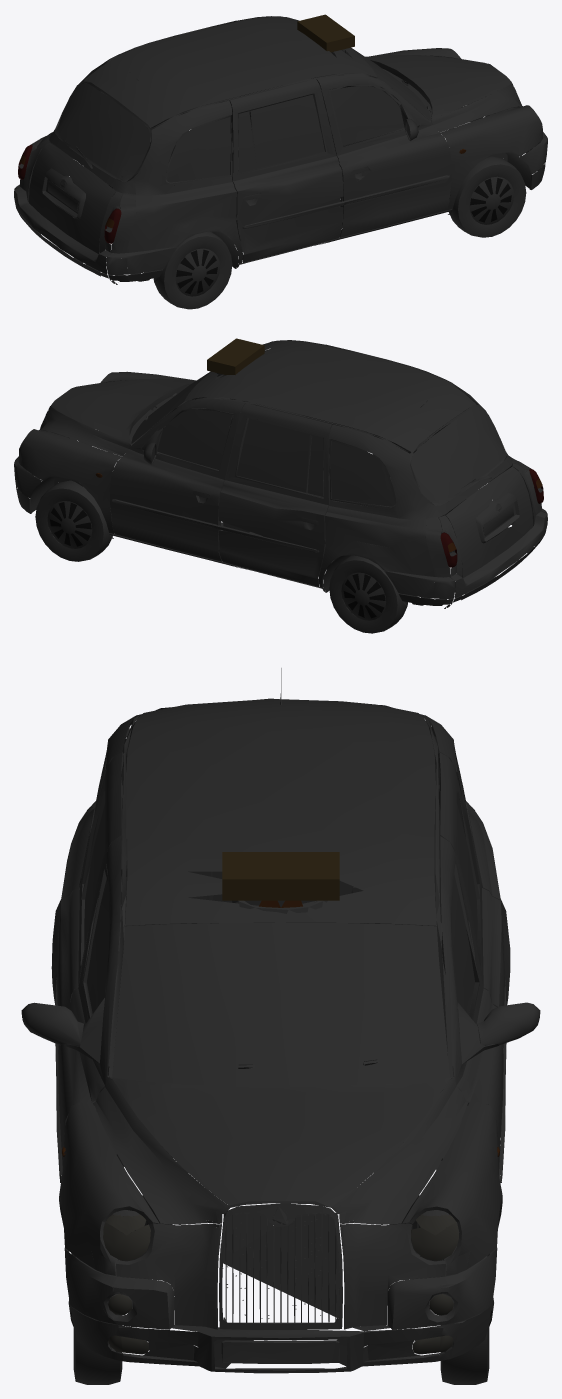
Rendered from london-cab.glb.
3 renders of one model, top to bottom at view 1: azimuth 30°, elevation 25°; view 2: azimuth 150°, elevation 25°; view 3: azimuth 270°, elevation 25°, orthographic. The views are drawn at different scales.
Visible parts, largest first — view 1: CabBody, CabGlass, CabRubber, FR, RR, CabLights, CabInterior; view 2: CabBody, CabGlass, CabRubber, FL, RL, CabLights, CabInterior; view 3: CabBody, CabGlass, CabRubber, CabLights, CabTrim, CabInterior, FL, FR.
Part boxes in pixels (x1=…): CabBody: x1=14, y1=16, x2=547, y2=284; CabGlass: x1=56, y1=47, x2=430, y2=182; CabRubber: x1=48, y1=16, x2=530, y2=268; FR: x1=448, y1=156, x2=526, y2=237; RR: x1=153, y1=231, x2=232, y2=309; CabLights: x1=18, y1=14, x2=543, y2=243; CabInterior: x1=59, y1=50, x2=447, y2=251; CabBody: x1=14, y1=340, x2=547, y2=608; CabGlass: x1=131, y1=371, x2=505, y2=506; CabRubber: x1=30, y1=340, x2=514, y2=592; FL: x1=35, y1=480, x2=113, y2=561; RL: x1=329, y1=555, x2=407, y2=633; CabLights: x1=18, y1=338, x2=543, y2=567; CabInterior: x1=129, y1=349, x2=512, y2=576; CabBody: x1=21, y1=699, x2=540, y2=1373; CabGlass: x1=84, y1=758, x2=477, y2=1216; CabRubber: x1=64, y1=668, x2=499, y2=1363; CabLights: x1=62, y1=852, x2=499, y2=1354; CabTrim: x1=22, y1=901, x2=539, y2=1341; CabInterior: x1=68, y1=736, x2=488, y2=1169; FL: x1=440, y1=1221, x2=493, y2=1384; FR: x1=68, y1=1221, x2=122, y2=1384.
Bounding box in the file's own units: 4.57 × 1.93 × 2.21.
